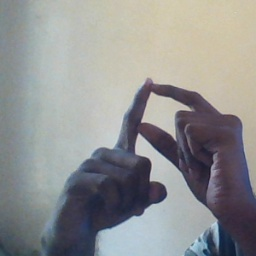D: (104, 75, 225, 188)
